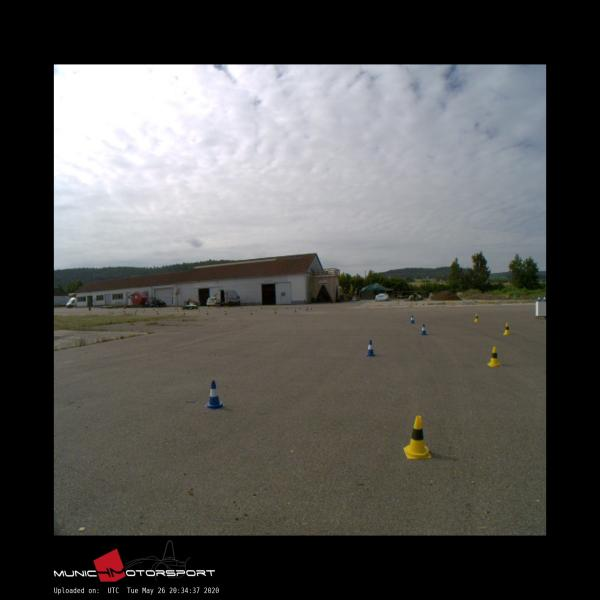blue_cone: (205, 381, 225, 409), (365, 340, 374, 356), (419, 324, 427, 335), (410, 315, 415, 324), (537, 296, 541, 301), (542, 296, 545, 301)
yellow_cone: (403, 415, 431, 457), (486, 346, 501, 366), (502, 322, 510, 334), (474, 313, 479, 322)
